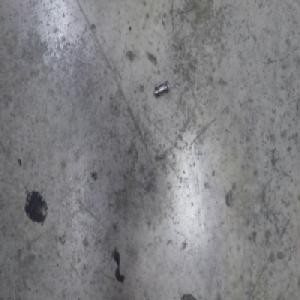Bolt: (155, 78, 170, 97)
